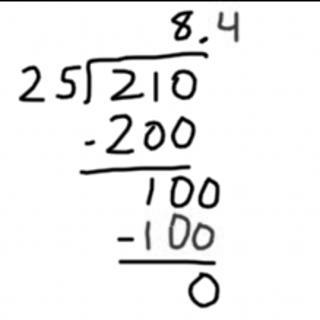.: (195, 29, 211, 50)
0: (181, 268, 221, 314), (165, 65, 203, 107), (168, 111, 198, 154), (140, 113, 169, 157), (163, 212, 193, 254), (163, 173, 195, 210), (191, 217, 218, 255), (196, 171, 221, 210)
1: (147, 67, 166, 107), (140, 174, 159, 210), (140, 215, 158, 253)
2: (12, 62, 50, 110), (103, 112, 141, 158), (103, 65, 147, 104)
4: (215, 8, 248, 52)
5: (53, 59, 84, 105)
8: (164, 6, 196, 44)
